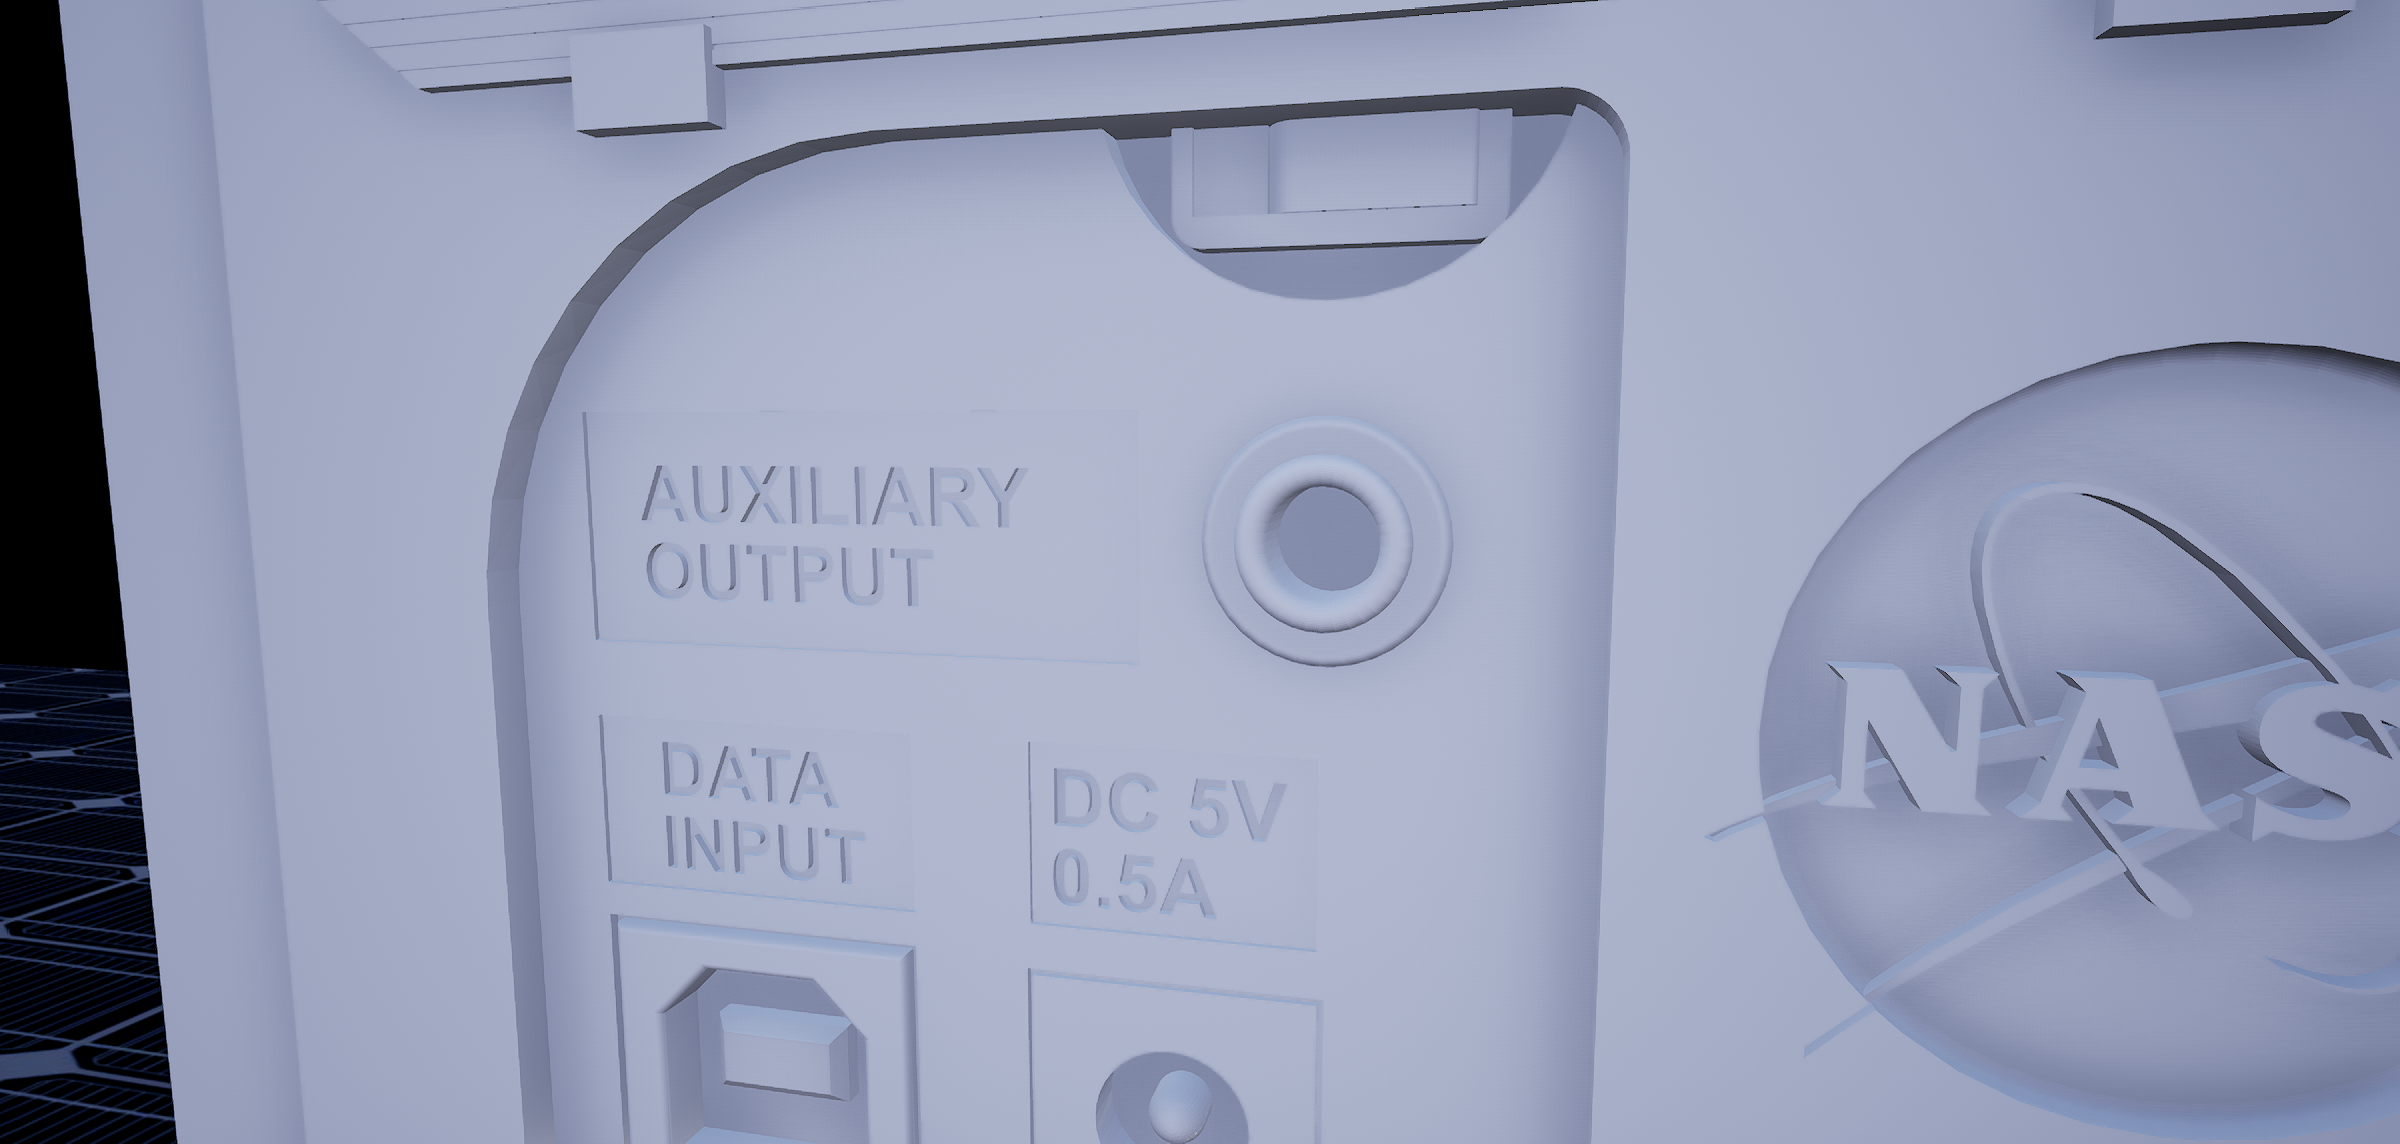aux: (1177, 426, 1492, 691)
dc: (1085, 1038, 1273, 1144)
usb: (651, 954, 885, 1144)
